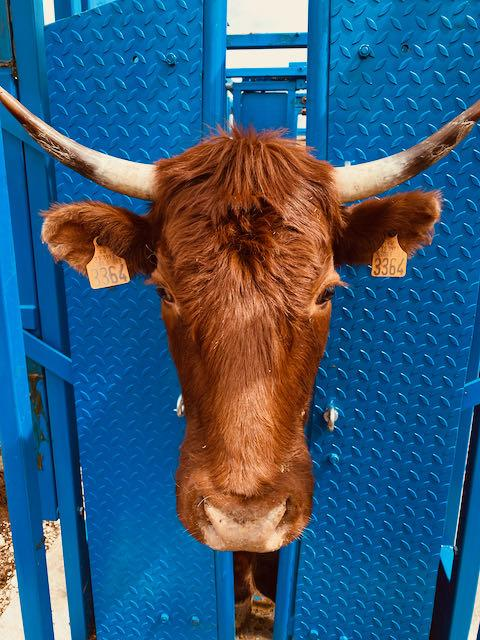muzzles: (166, 480, 318, 558)
